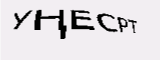А: (108, 14, 139, 49)
Е: (60, 17, 73, 43)
И: (77, 13, 103, 49)
М: (27, 12, 46, 37)
Т: (47, 12, 59, 39)
